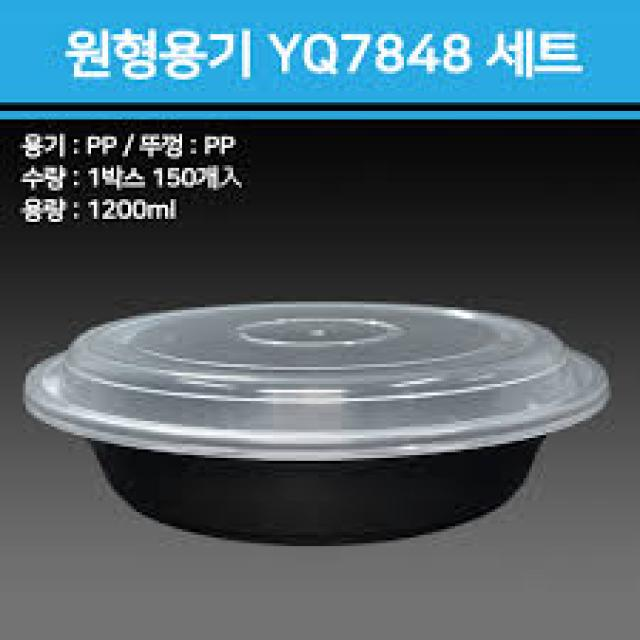disposable: (22, 283, 614, 565)
